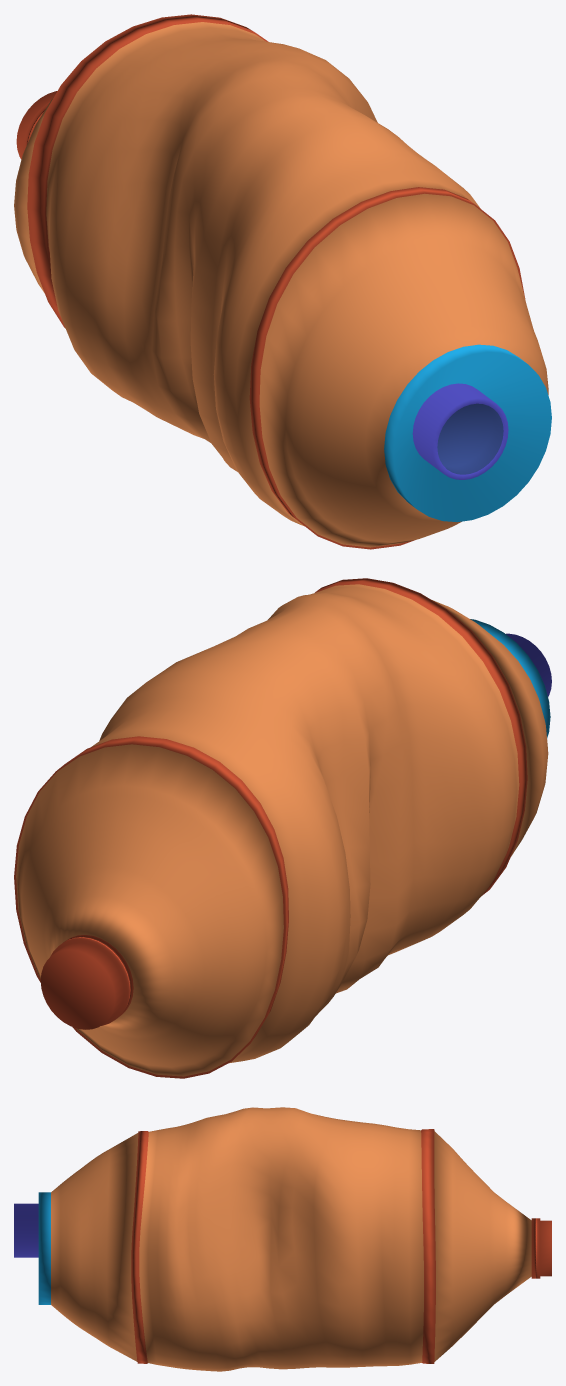
The model's file is Nafas_AmbuBag_Kempes.fbx.
The picture shows the model from 3 angles, top to bottom: view 1: azimuth 30°, elevation 25°; view 2: azimuth 150°, elevation 25°; view 3: azimuth 270°, elevation 25°; orthographic projection. The views are drawn at different scales.
Parts seen in each view (by area): view 1: Cylinder.001; view 2: Cylinder.001; view 3: Cylinder.001.
Boxes of the visible parts, <box> form: Cylinder.001: <box>14,14,551,549</box>; Cylinder.001: <box>14,578,551,1078</box>; Cylinder.001: <box>14,1107,551,1371</box>.
Bounding box in the file's own units: 244 × 303 × 601.
